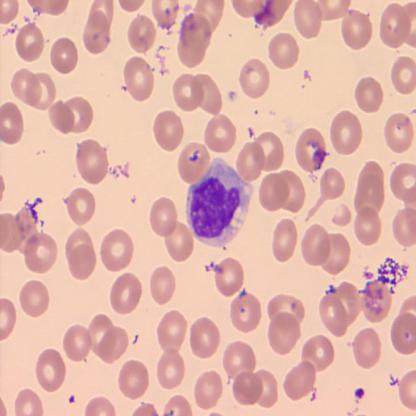Metamyelocyte: (184, 154, 255, 251)
